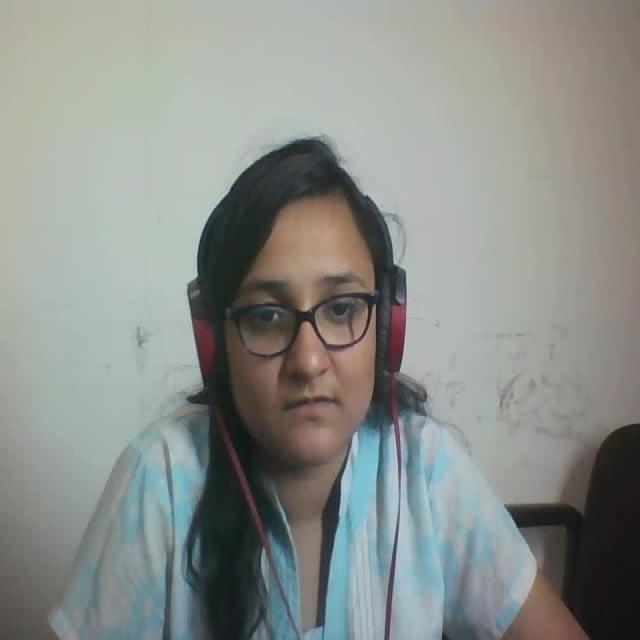Engaged: (176, 116, 432, 477)
